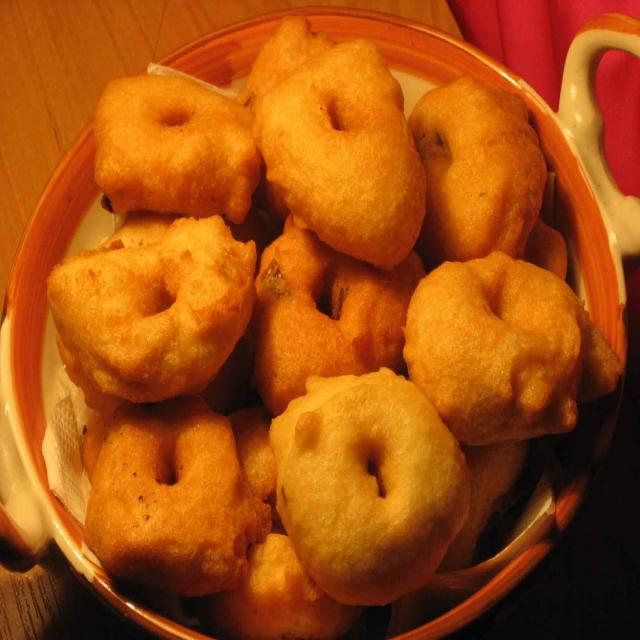Vada: (44, 193, 280, 578), (256, 215, 594, 451), (267, 367, 472, 611), (240, 22, 428, 274), (406, 77, 550, 271), (91, 73, 266, 231)
